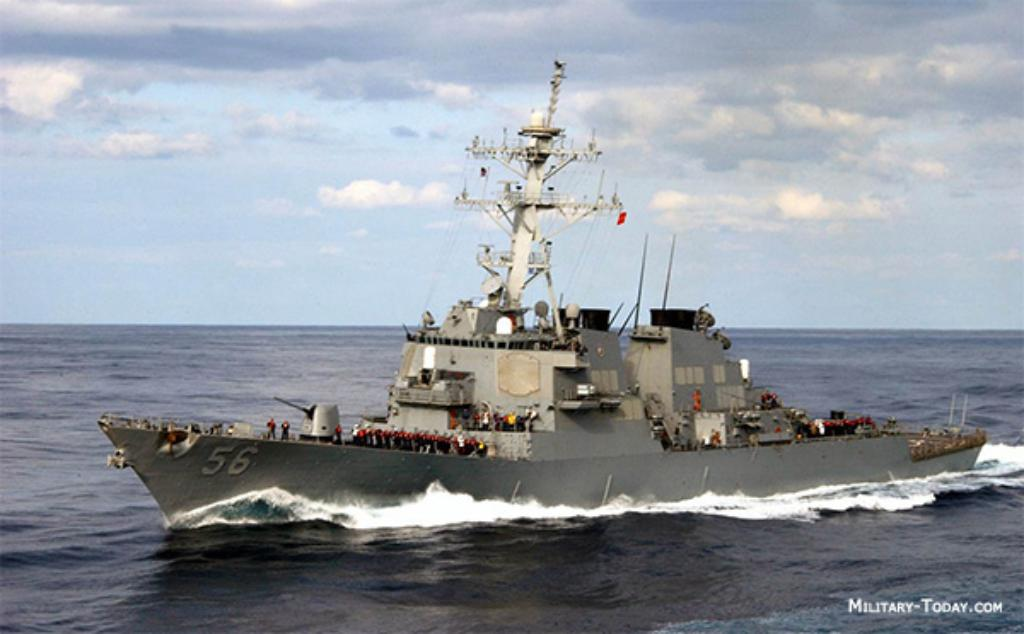Warship: (82, 53, 996, 524)
